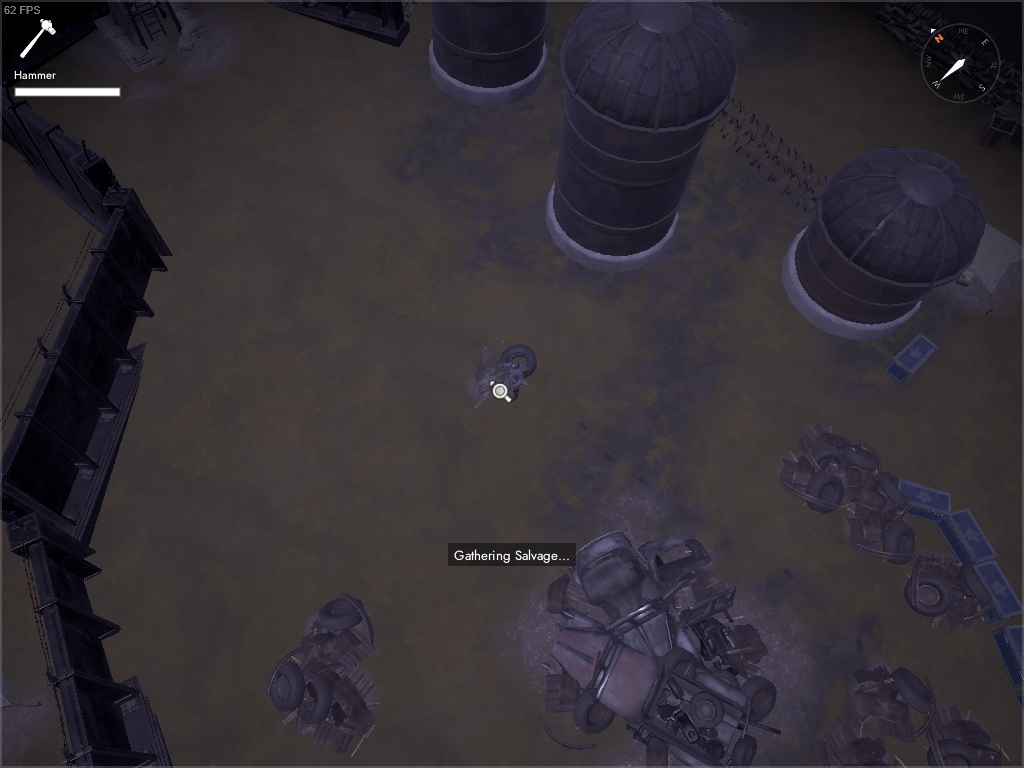fortified_wall: (1, 179, 170, 555), (1, 509, 178, 768), (1, 65, 126, 237), (1, 1, 115, 95), (262, 1, 411, 48)
foxhole: (939, 212, 1024, 320)
gathering_salvage: (445, 539, 579, 572)
player: (501, 360, 525, 403)
scrap: (265, 589, 386, 759), (783, 421, 916, 565), (904, 550, 994, 637), (851, 659, 939, 744), (915, 698, 1015, 768), (460, 337, 540, 411), (807, 717, 912, 768)
scrapyard: (526, 524, 786, 768)
storage_box: (931, 502, 999, 572), (960, 556, 1024, 628), (888, 473, 961, 526), (881, 329, 942, 387), (990, 619, 1024, 703)
watchtower: (89, 1, 209, 74)
wire: (704, 86, 842, 220)
